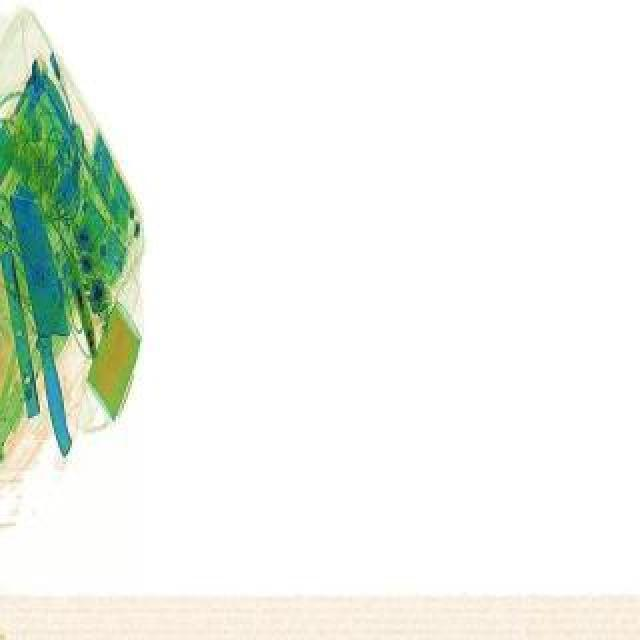knife: (12, 192, 92, 454)
